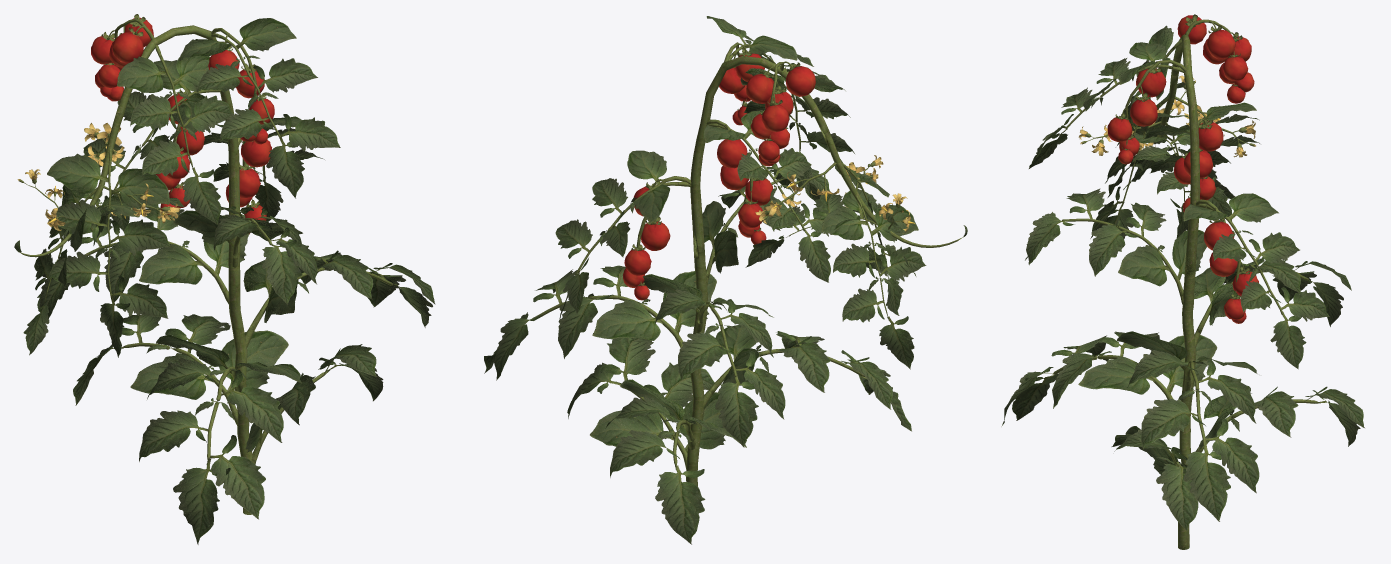
File: tomato29.dae
3 renders of one model, left to right at view 1: azimuth 30°, elevation 25°; view 2: azimuth 150°, elevation 25°; view 3: azimuth 270°, elevation 25°, orthographic. The views are drawn at different scales.
Visible parts, largest first — view 1: Leaf2, Leaf1, Branch1, Fruit2, Blossom1, Blossom3; view 2: Leaf2, Leaf1, Branch1, Fruit2, Blossom1, Blossom3; view 3: Leaf2, Leaf1, Branch1, Fruit2, Blossom3, Blossom1.
Part boxes in pixels (<box>): Leaf2: <box>23,55,435,544</box>; Leaf1: <box>14,18,302,452</box>; Branch1: <box>20,17,392,514</box>; Fruit2: <box>91,17,274,234</box>; Blossom1: <box>17,123,180,230</box>; Blossom3: <box>19,14,266,220</box>; Leaf2: <box>484,25,926,544</box>; Leaf1: <box>590,16,967,452</box>; Branch1: <box>532,42,962,486</box>; Fruit2: <box>623,53,815,300</box>; Blossom1: <box>755,155,910,233</box>; Blossom3: <box>631,49,903,285</box>; Leaf2: <box>1001,58,1364,531</box>; Leaf1: <box>1078,25,1278,474</box>; Branch1: <box>1052,19,1320,549</box>; Fruit2: <box>1107,15,1258,323</box>; Blossom3: <box>1081,14,1254,299</box>; Blossom1: <box>1078,75,1255,157</box>.
Size of the model in its own units: 1.01 by 0.7703 by 1.08.
